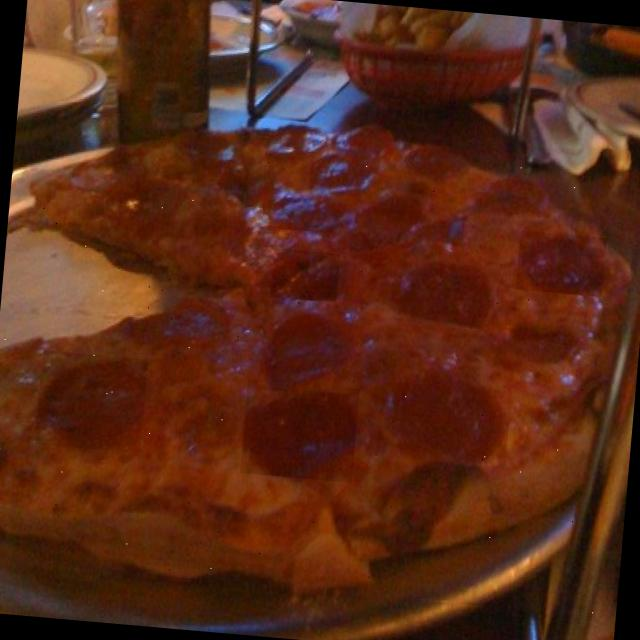pepperoni: (372, 351, 514, 466), (239, 380, 359, 482), (34, 352, 148, 454), (385, 245, 499, 331), (257, 300, 356, 394), (330, 180, 425, 255), (516, 232, 606, 296), (261, 177, 339, 233), (270, 248, 340, 302)
pizza: (0, 129, 629, 590)
